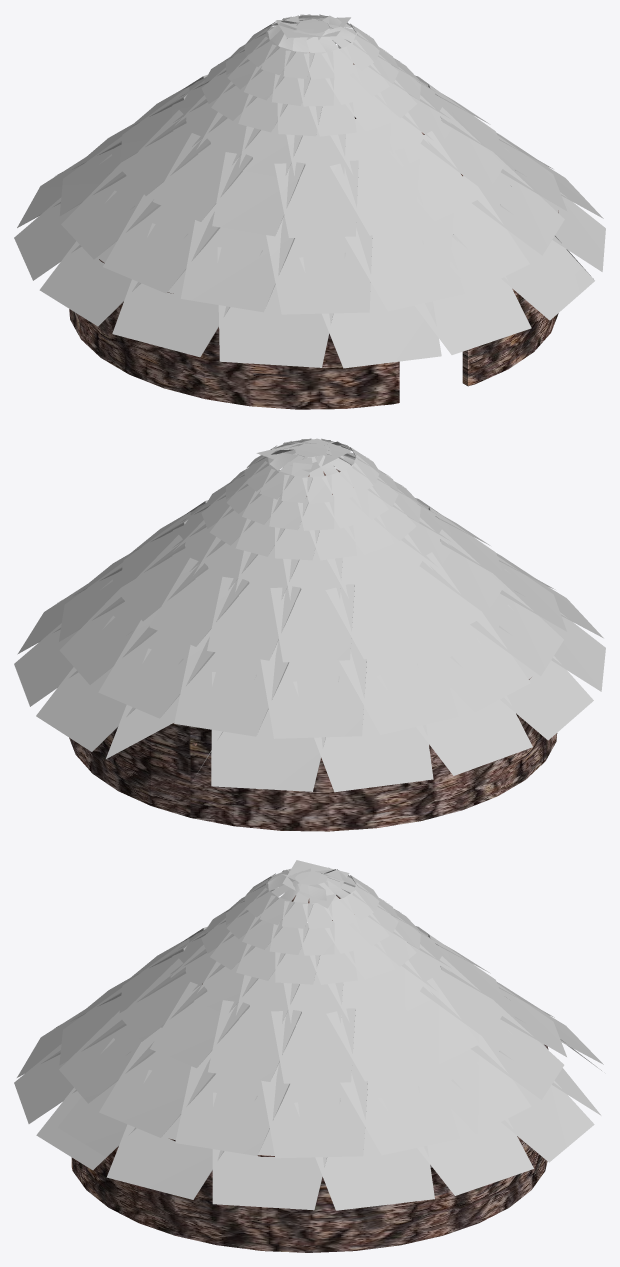
File: oca2.fbx
3 views of the same model, one above another, from view 1: azimuth 30°, elevation 25°; view 2: azimuth 150°, elevation 25°; view 3: azimuth 270°, elevation 25° (orthographic).
Visible parts, largest first — view 1: HUt, Cylinder; view 2: HUt, Cylinder; view 3: HUt, Cylinder.
Boxes of the visible parts, x1=… form: HUt: x1=14, y1=14, x2=605, y2=368; Cylinder: x1=69, y1=118, x2=558, y2=409; HUt: x1=14, y1=438, x2=605, y2=792; Cylinder: x1=69, y1=677, x2=557, y2=831; HUt: x1=14, y1=860, x2=603, y2=1210; Cylinder: x1=71, y1=1044, x2=548, y2=1252.
Size of the model in its own units: 1672 by 879 by 1714.
